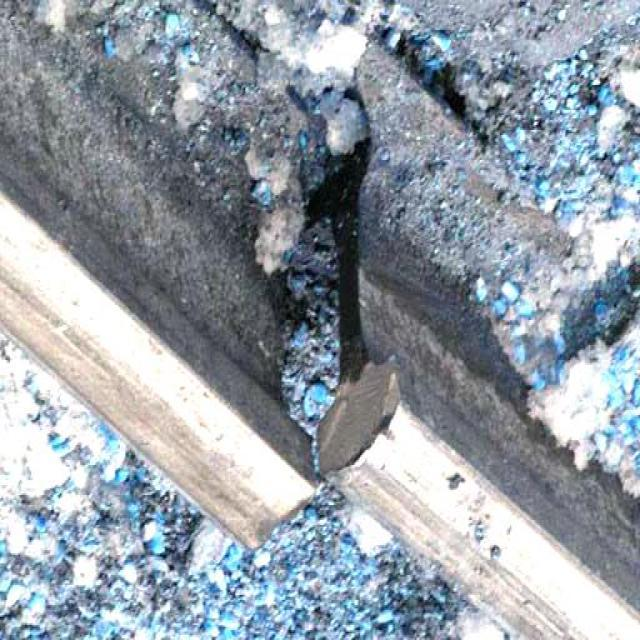broken_rail_high: (254, 66, 386, 568)
